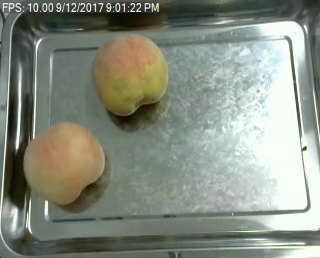Peach: (22, 122, 107, 204), (92, 32, 168, 116)
